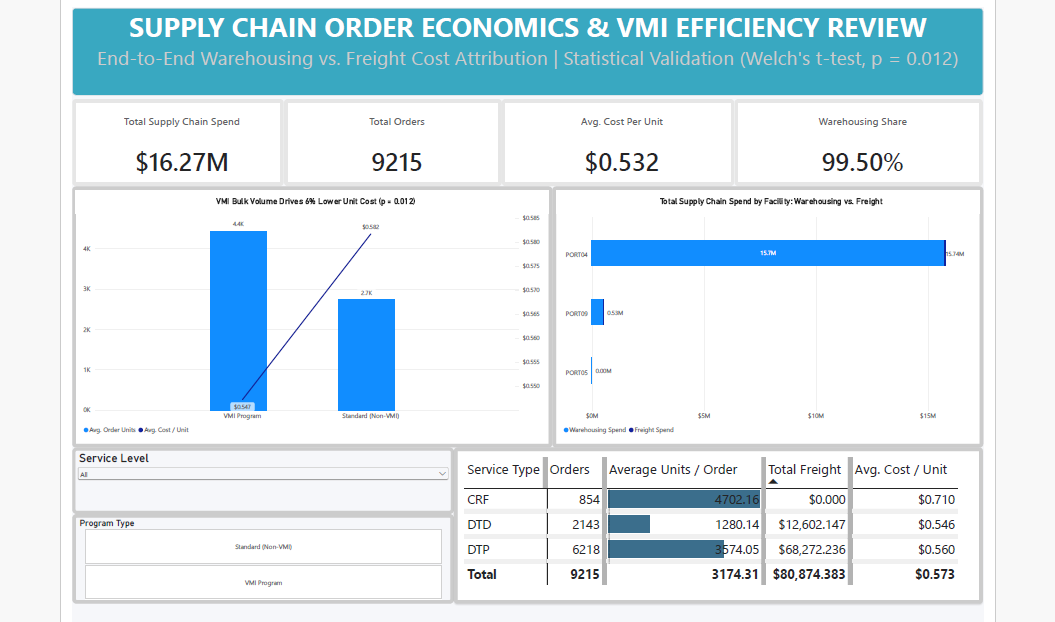

What the dashboard file says about the page in this screenshot:
{"tool":"powerbi","page":{"name":"Page 1","canvas":[2000,1350],"ordinal":0},"visuals":[{"type":"cardVisual","fields":{"Data":["Sum(pbi_sc_export.total_cost)"]},"box":[0,200,464.9,191.9],"z":0},{"type":"cardVisual","fields":{"Data":["Count(pbi_sc_export.order_id)"]},"box":[464.9,200,478.4,191.9],"z":1},{"type":"cardVisual","fields":{"Data":["pbi_sc_export.Blended_cost_per_unit"]},"box":[943.2,200,510.8,191.9],"z":2},{"type":"cardVisual","fields":{"Data":["pbi_sc_export.Warehousing Share"]},"box":[1454.1,200,545.9,191.9],"z":3},{"type":"lineClusteredColumnComboChart","title":"VMI Bulk Volume Drives 6% Lower Unit Cost (p = 0.012)","fields":{"Category":["pbi_sc_export.Program_Type"],"Y":["Avg(pbi_sc_export.unit_quant)"],"Y2":["Avg(pbi_sc_export.cost_per_unit)"]},"box":[0,391.9,1054.1,573],"z":4},{"type":"barChart","title":"Total Supply Chain Spend by Facility: Warehousing vs. Freight","fields":{"Category":["pbi_sc_export.orig_port"],"Y":["Sum(pbi_sc_export.warehousing_cost)","Sum(pbi_sc_export.freight_cost)"]},"box":[1054.1,391.9,945.9,573],"z":5},{"type":"slicer","fields":{"Values":["pbi_sc_export.Program_Type"]},"box":[0,1110.8,837.8,197.3],"z":6},{"type":"slicer","fields":{"Values":["pbi_sc_export.service_level"]},"box":[0,964.9,837.8,145.9],"z":7},{"type":"pivotTable","fields":{"Rows":["pbi_sc_export.carrier","pbi_sc_export.service_level"],"Values":["Count(pbi_sc_export.order_id)","Avg(pbi_sc_export.unit_quant)","Sum(pbi_sc_export.freight_cost)","Avg(pbi_sc_export.cost_per_unit)"]},"box":[837.8,964.9,1161,343.2],"z":8},{"type":"textbox","box":[0,0,2000,191.9],"z":9}]}

Visuals, with their boxes in screenshot pixels (x1, y1, x2, y2):
cardVisual - Sum(pbi_sc_export.total_cost): detection(69, 96, 280, 183)
cardVisual - Count(pbi_sc_export.order_id): detection(280, 96, 497, 183)
cardVisual - pbi_sc_export.Blended_cost_per_unit: detection(496, 96, 728, 183)
cardVisual - pbi_sc_export.Warehousing Share: detection(728, 96, 976, 183)
"VMI Bulk Volume Drives 6% Lower Unit Cost (p = 0.012)" lineClusteredColumnComboChart: detection(69, 183, 547, 443)
"Total Supply Chain Spend by Facility: Warehousing vs. Freight" barChart: detection(547, 183, 976, 443)
slicer - pbi_sc_export.Program_Type: detection(69, 509, 449, 599)
slicer - pbi_sc_export.service_level: detection(69, 443, 449, 509)
pivotTable - pbi_sc_export.carrier x pbi_sc_export.service_level: detection(449, 443, 975, 599)
textbox: detection(69, 5, 976, 93)
